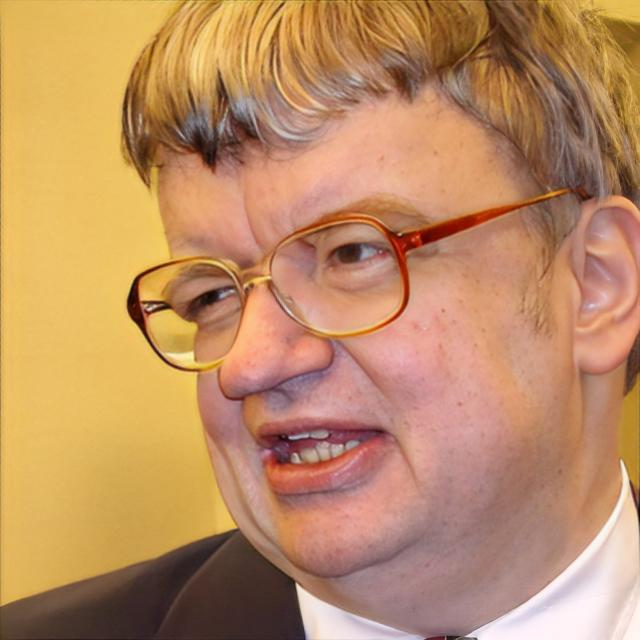disgust: (154, 69, 573, 578)
